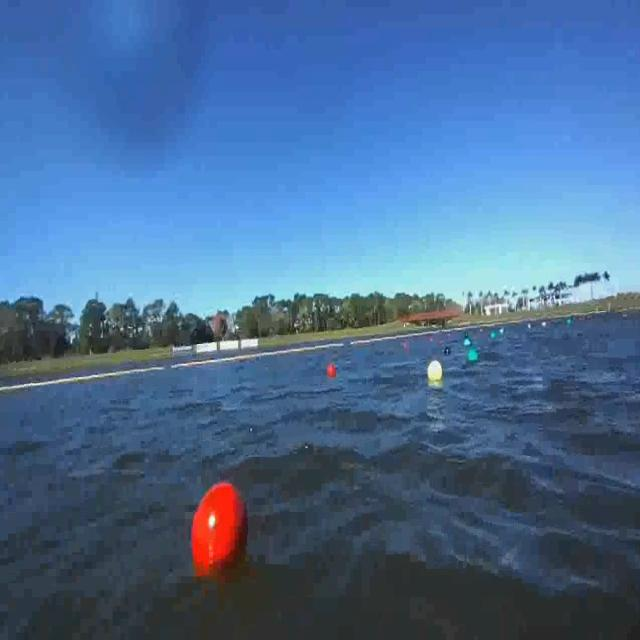black-buoy: (444, 347, 450, 355), (464, 331, 469, 339)
green-buoy: (467, 348, 478, 363), (464, 339, 471, 346)
red-buoy: (187, 478, 254, 582), (326, 363, 336, 378)
yellow-buoy: (427, 358, 443, 381)
